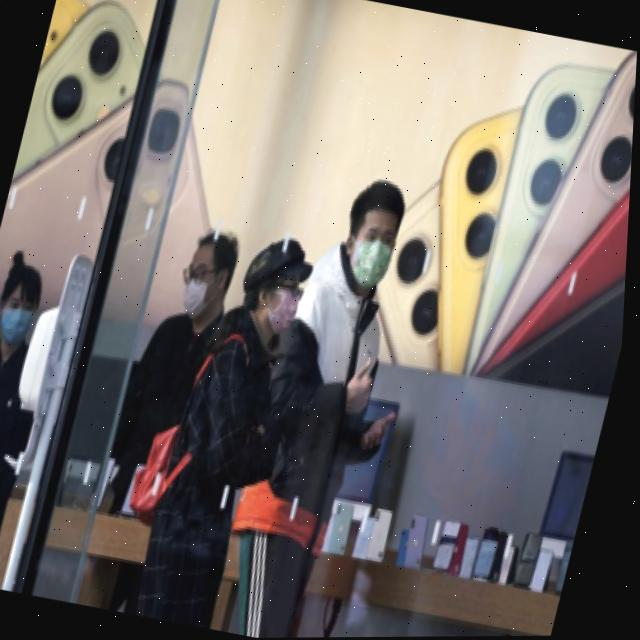Mask: (339, 236, 400, 291), (257, 285, 307, 336), (180, 276, 221, 320), (0, 306, 40, 347)
